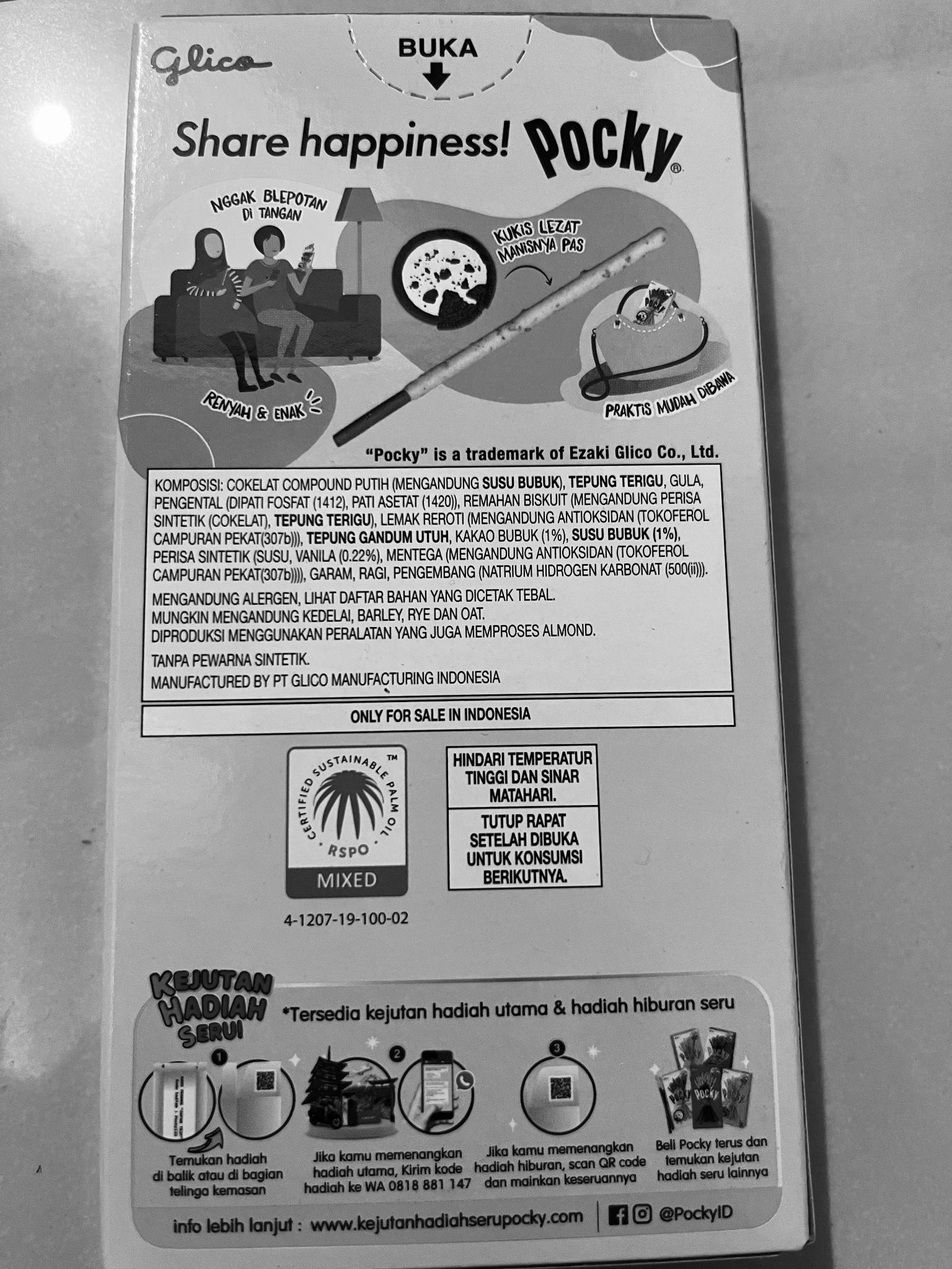Kertas: (101, 16, 809, 1265)
